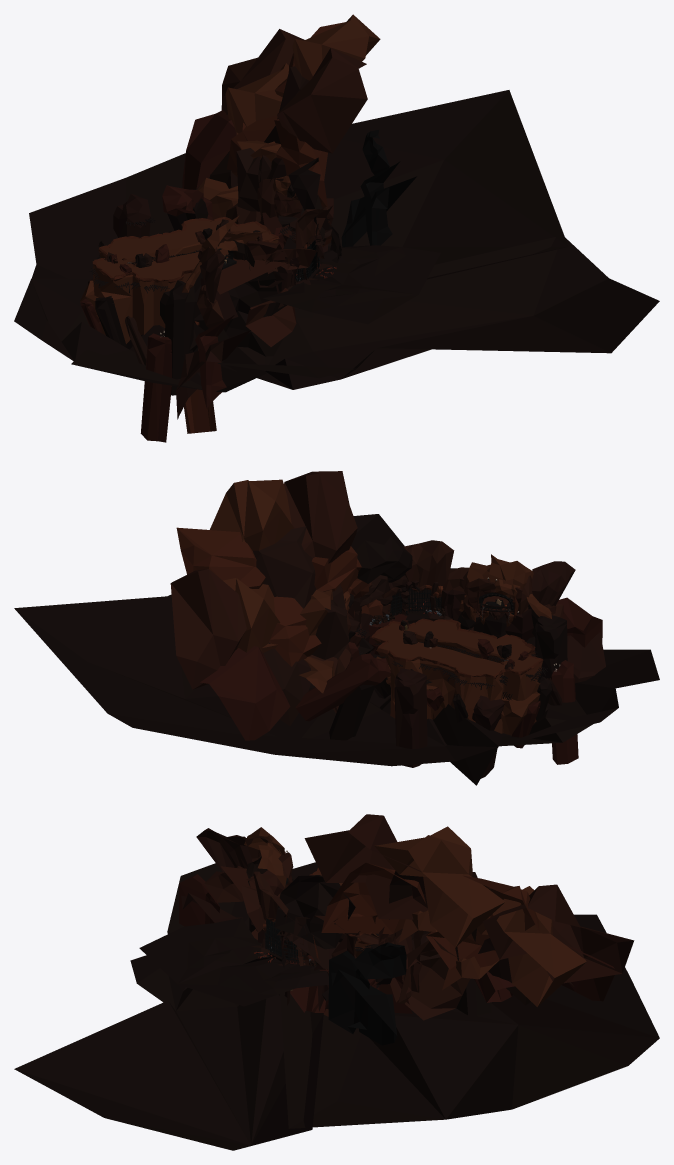
The model's file is level.fbx.
3 views of the same model, one above another, from view 1: azimuth 30°, elevation 25°; view 2: azimuth 150°, elevation 25°; view 3: azimuth 270°, elevation 25° (orthographic). The views are drawn at different scales.
Visible parts, largest first — view 1: Walkable; view 2: Walkable; view 3: Walkable.
Boxes of the visible parts, x1=… form: Walkable: x1=14, y1=14, x2=659, y2=442; Walkable: x1=14, y1=471, x2=659, y2=785; Walkable: x1=14, y1=814, x2=659, y2=1150.
Bounding box in the file's own units: 177 × 87.21 × 169.
